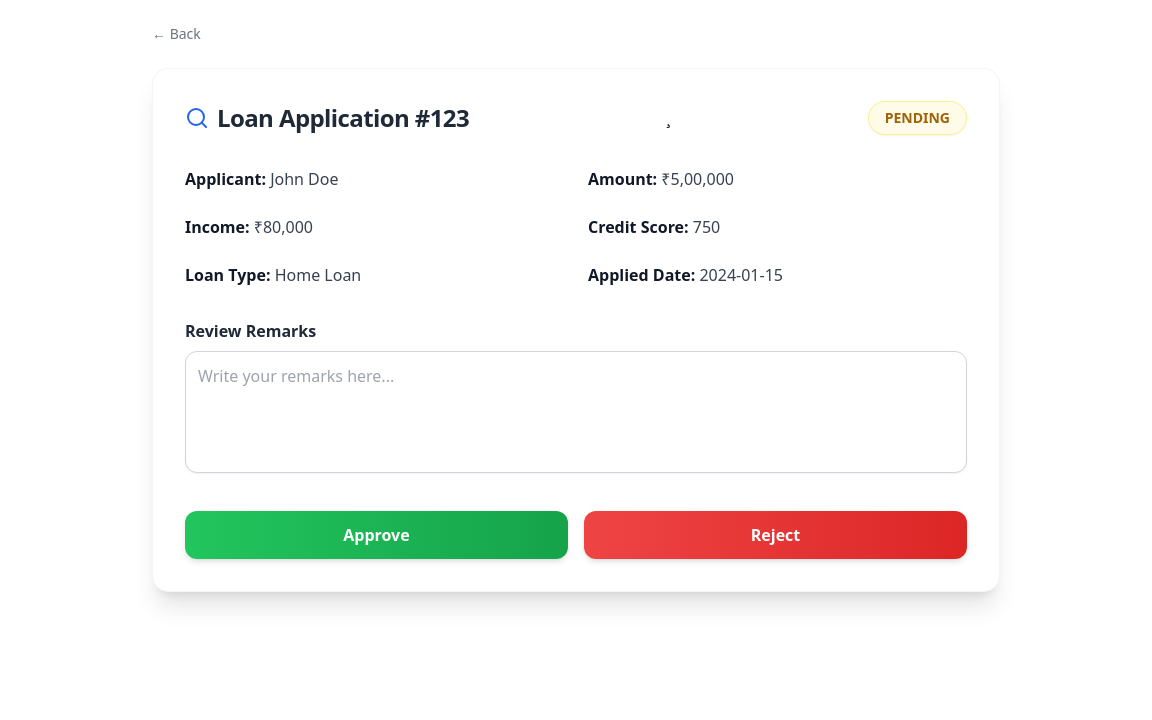
Test case: LoanReview.vue › handles failed review submission
The width and height of the screenshot is (1152, 720).
Type "Test remark" into the text box with placeholder "Write your remarks here...".
click(576, 412); type("Test remark")  # box 185,351 -> 967,473
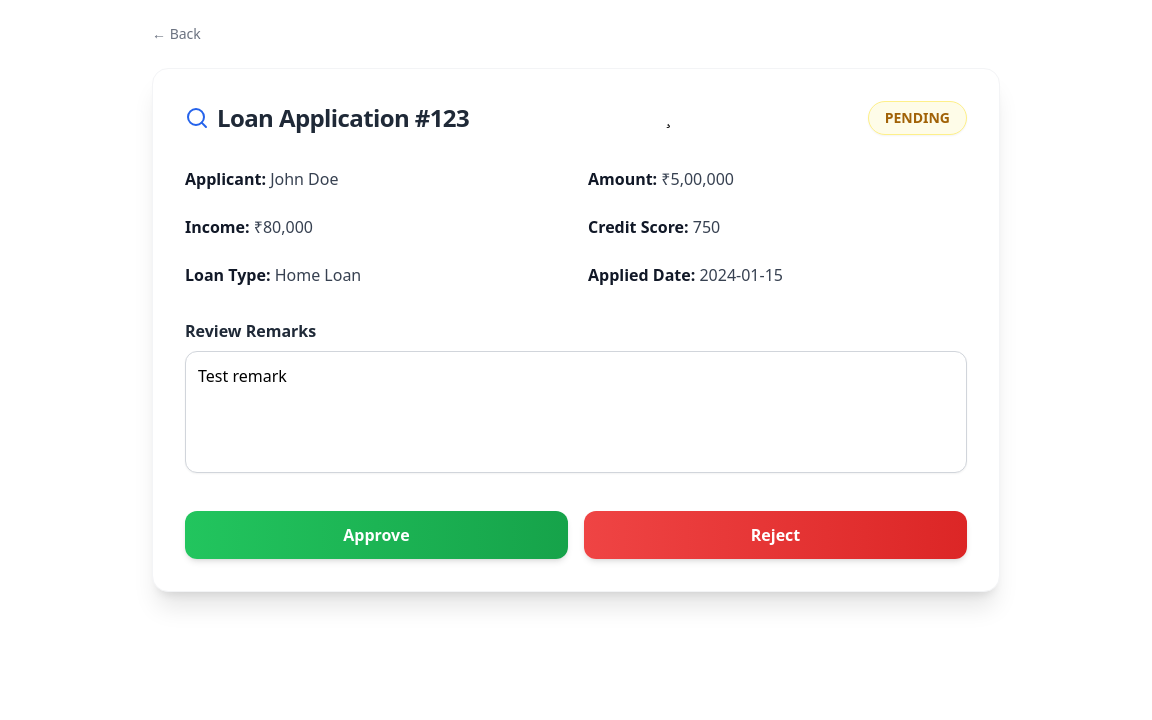
Click the button "Approve".
click(376, 535)  # box 185,511 -> 568,559
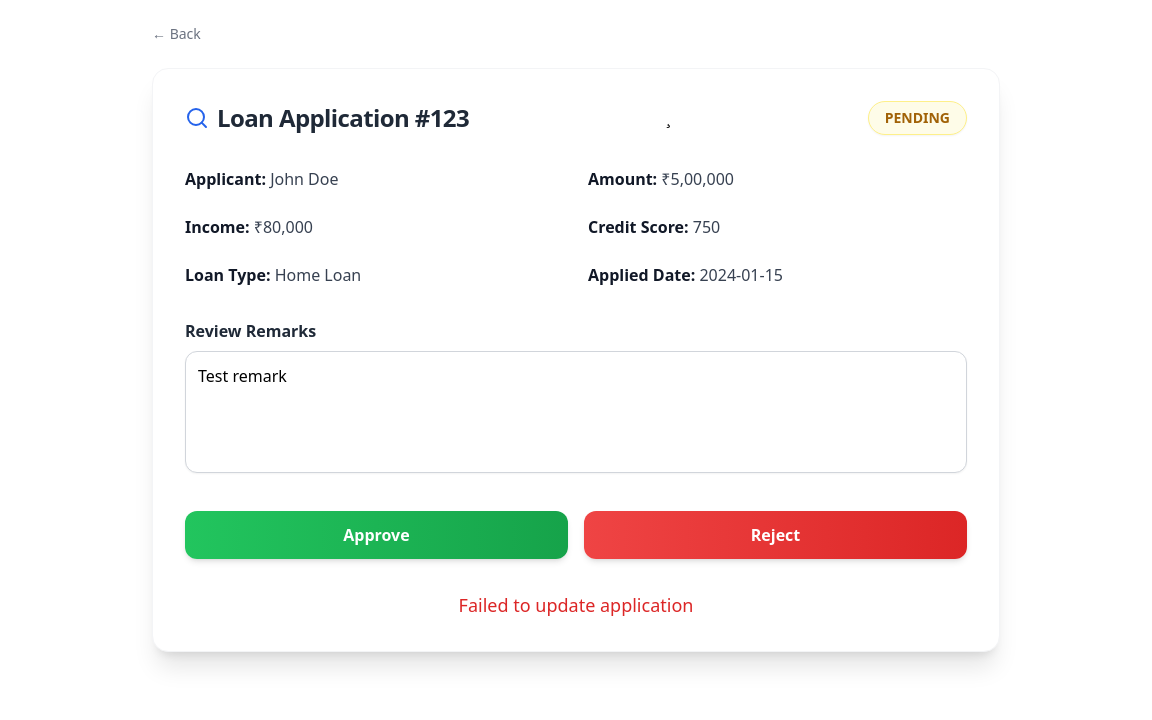
expect the text "Failed to update application" is shown: met, box 459,593 -> 693,617
